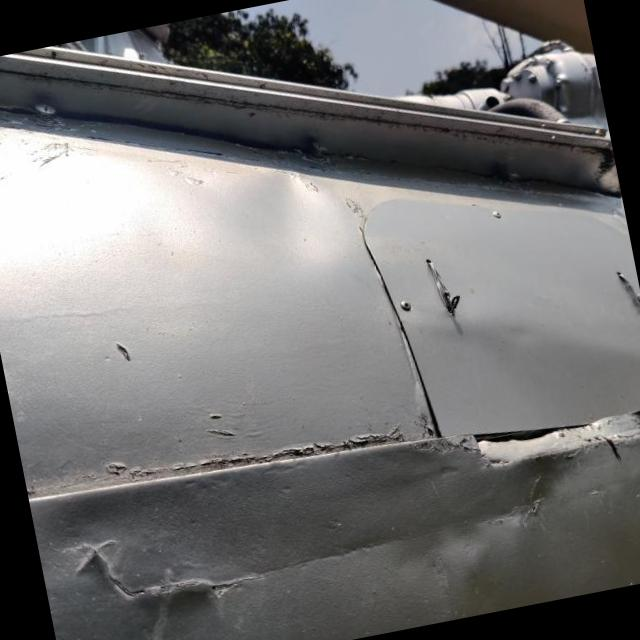Crack: (40, 520, 277, 640), (511, 473, 552, 533)
Dent: (214, 161, 373, 295)
